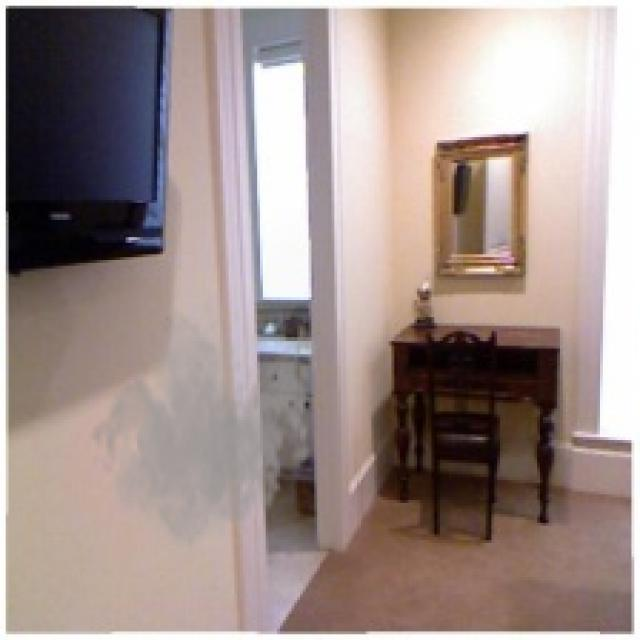Smoke: (88, 283, 323, 563)
